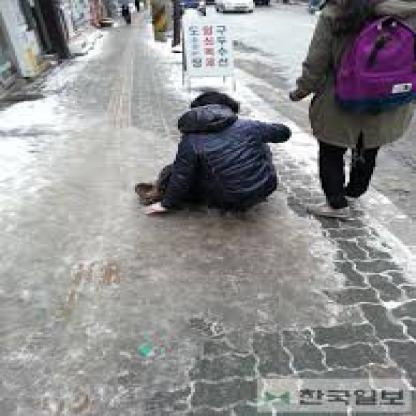Fall_Down: (133, 91, 293, 218)
